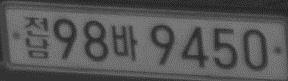0: (242, 28, 267, 69)
4: (181, 26, 208, 67)
5: (213, 27, 237, 68)
8: (83, 19, 108, 60)
9: (52, 17, 77, 59), (150, 23, 174, 65)
바: (110, 24, 137, 60)
전남_V: (24, 16, 49, 58)
